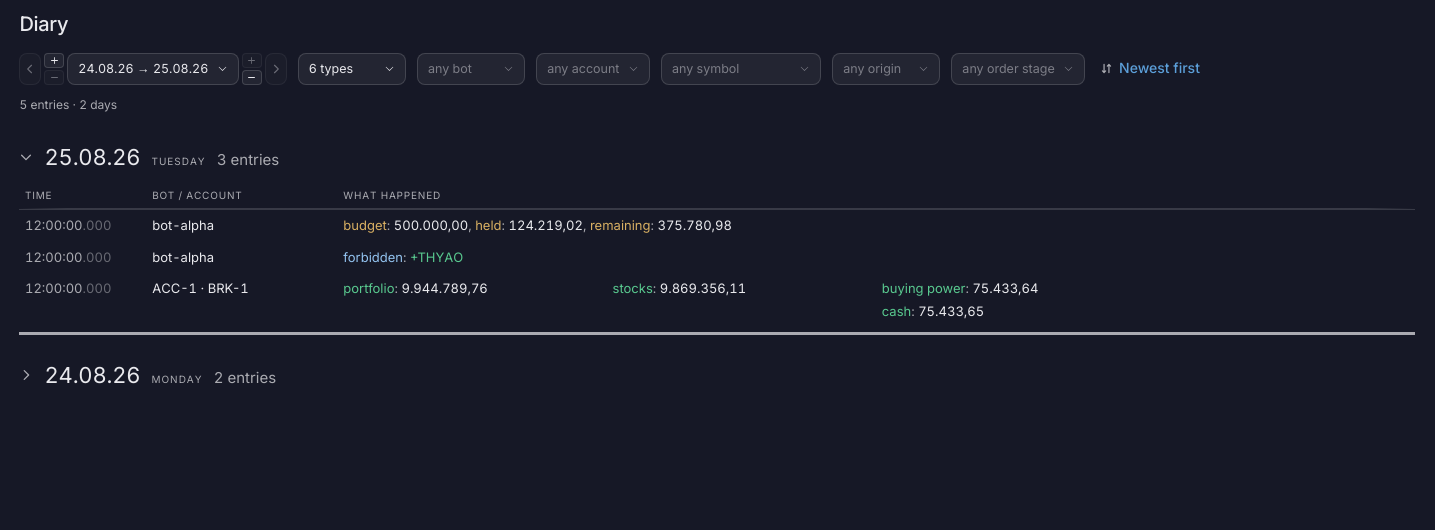
Test: Diary list › draws the time with a dimmed millisecond, the subject, and the description apart
Expected: the text "25.08.26" is shown, [45,140,140,174]
Note: The cash movement is the older day's only entry, so open it.
Click the button "24.08.26 Monday 2 entries".
click(92, 375)  # box [19,341,1415,400]
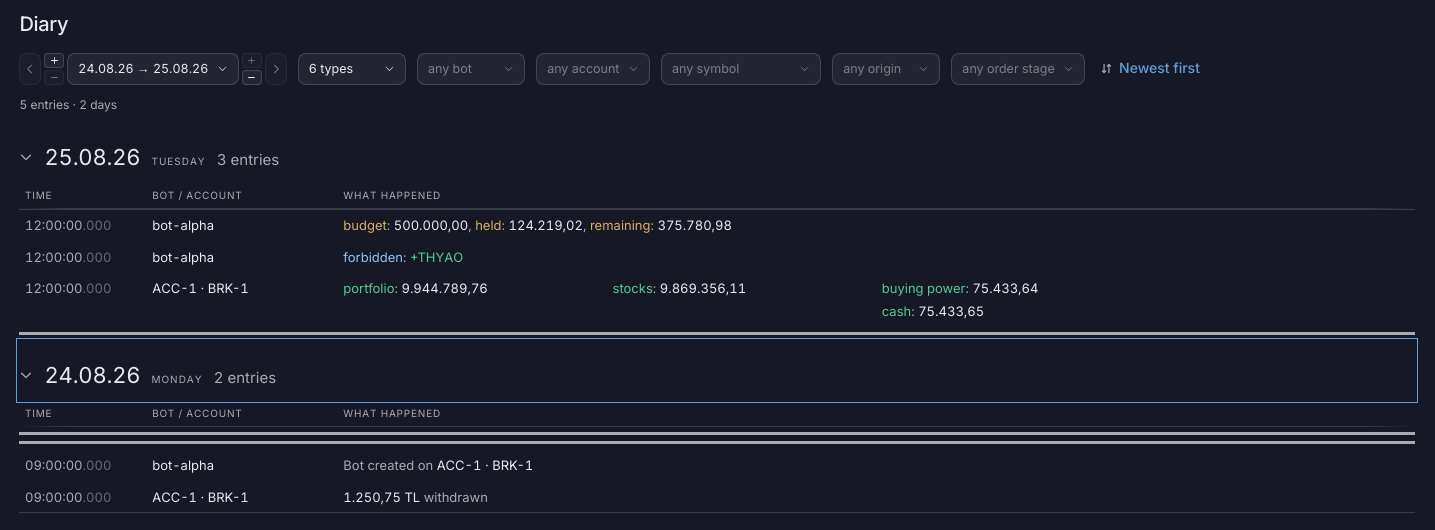
Expected: the text "ACC-1 · BRK-1" next to "1.250,75 TL" is shown, [152,488,249,504]
Expected: the text "09:00:00" in the row of "1.250,75 TL" is shown, [25,488,83,504]
Expected: the text ".000" in the row of "1.250,75 TL" is shown, [82,488,111,504]
